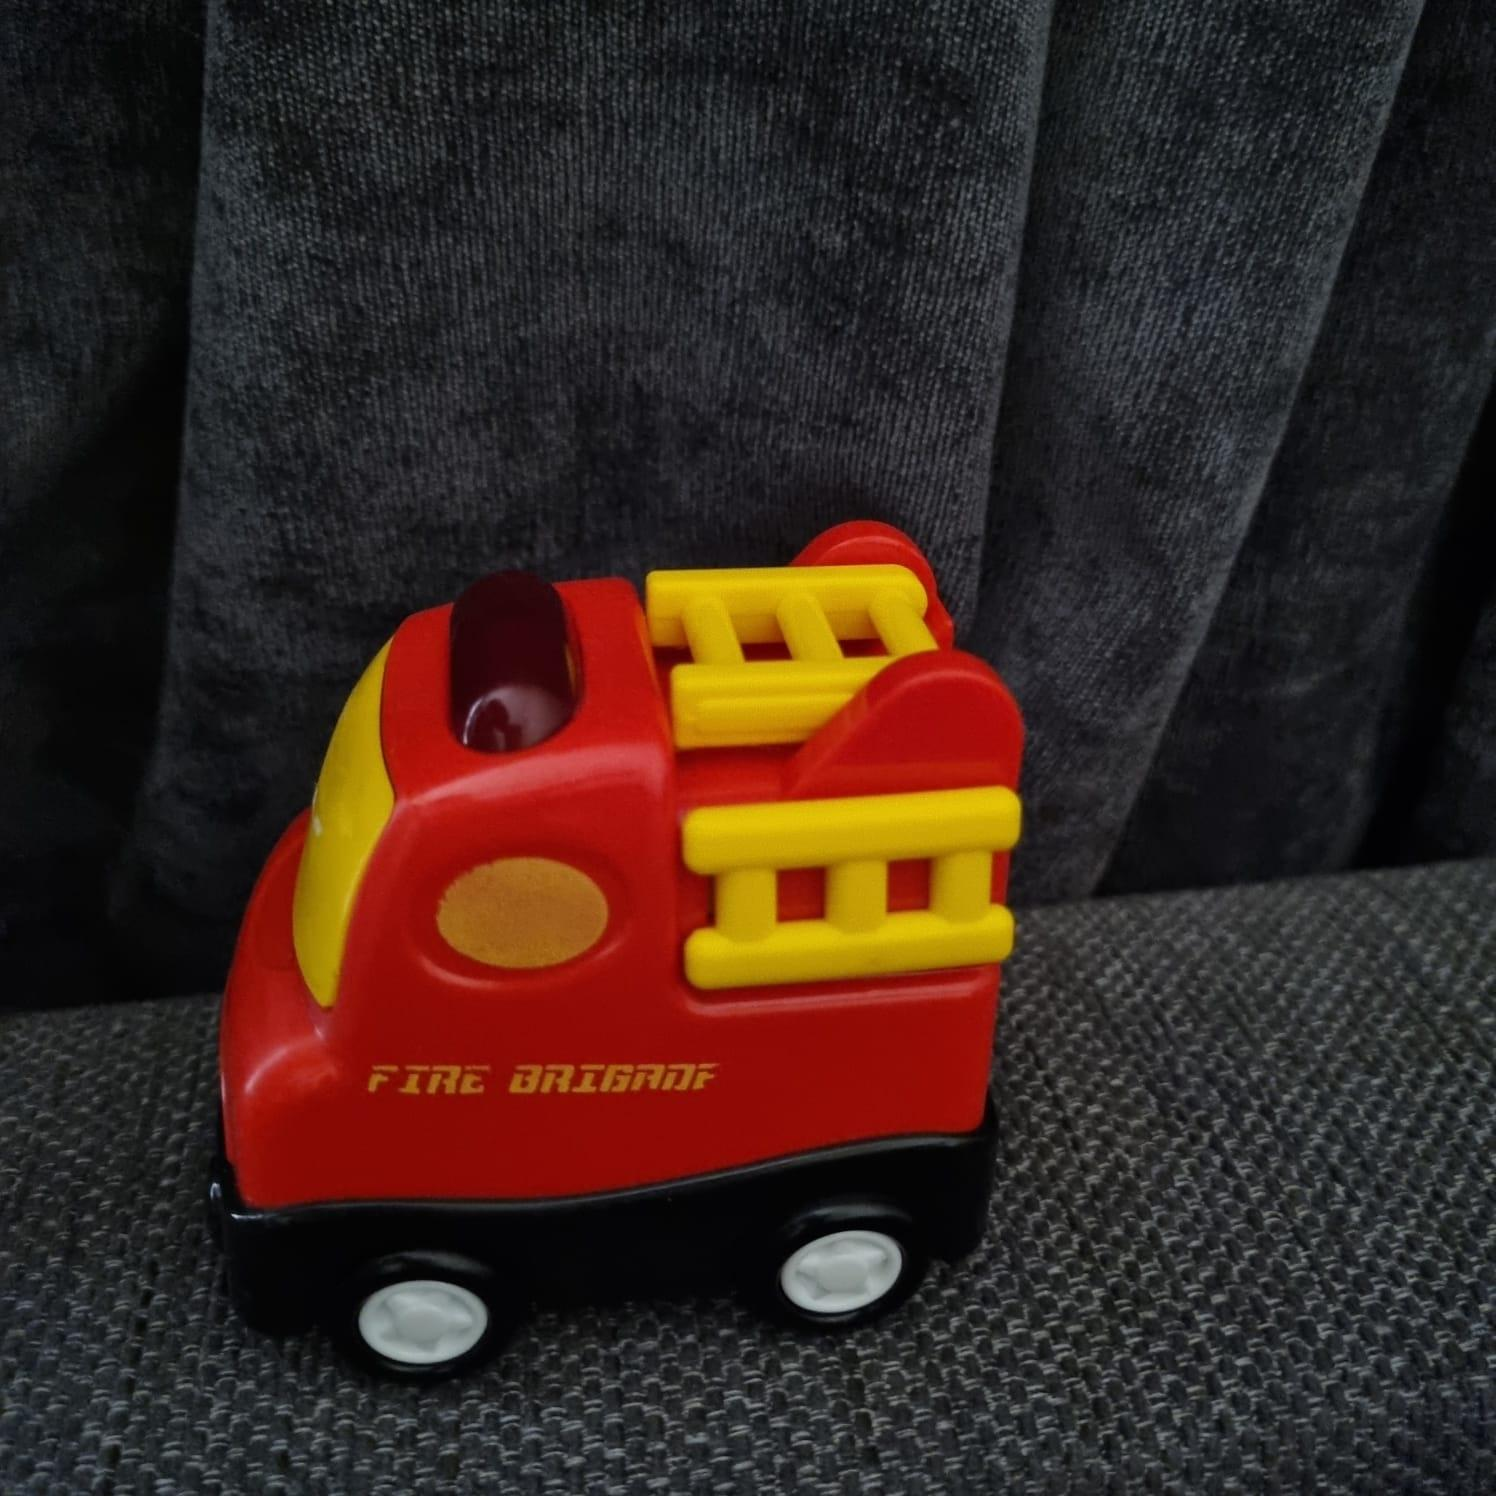firetruck_off: (225, 511, 1032, 1358)
